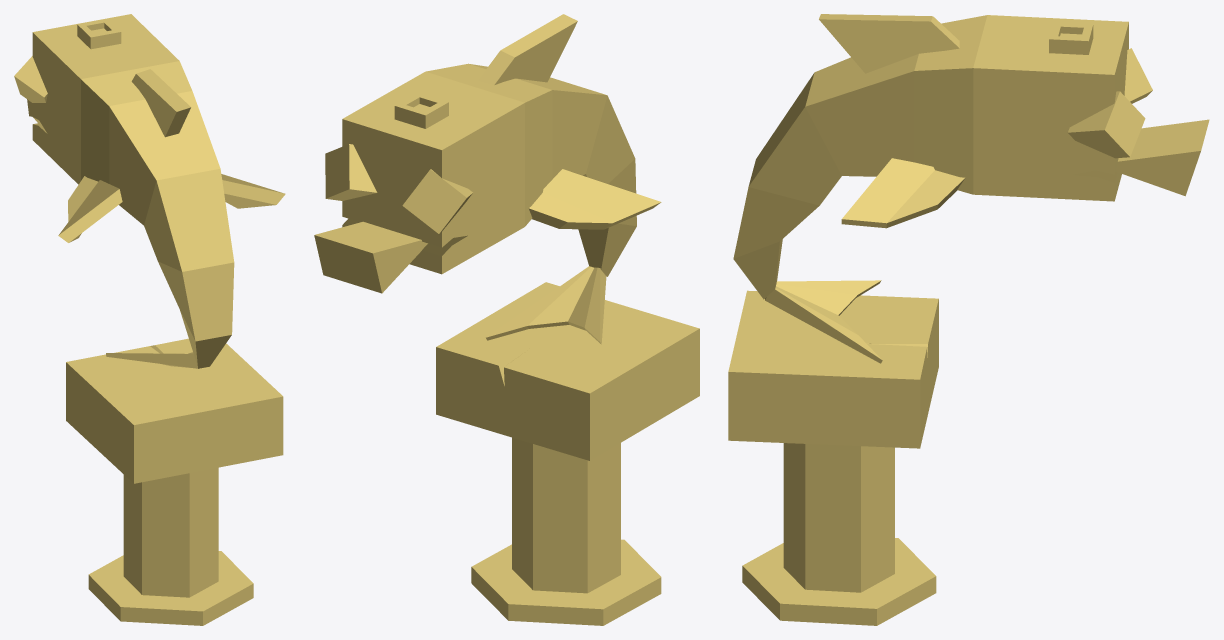
The model's file is dolphin.fbx.
3 renders of one model, left to right at view 1: azimuth 30°, elevation 25°; view 2: azimuth 150°, elevation 25°; view 3: azimuth 270°, elevation 25°, orthographic. The views are drawn at different scales.
Visible parts, largest first — view 1: dolphin; view 2: dolphin; view 3: dolphin.
Part boxes in pixels (left/top/right/bottom): dolphin: left=14, top=14, right=285, bottom=625; dolphin: left=314, top=14, right=699, bottom=625; dolphin: left=728, top=14, right=1209, bottom=625.
Size of the model in its own units: 56.82 by 125 by 94.45.
